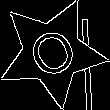O_SE: (21, 20, 83, 85)
